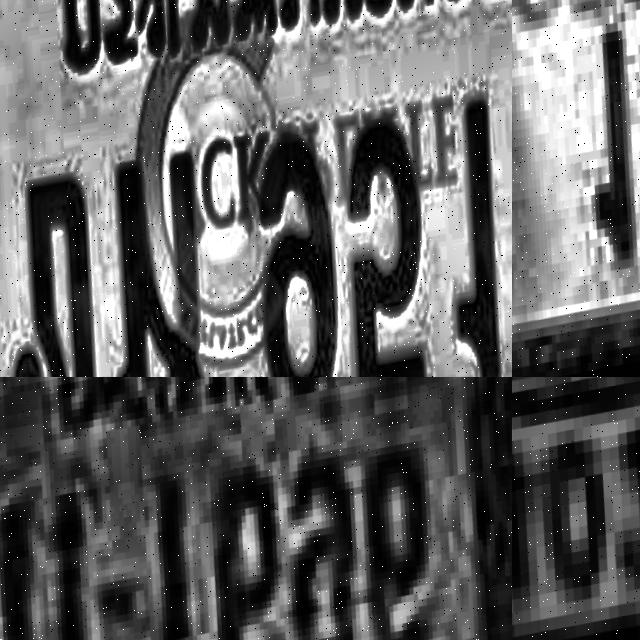license-plate: (0, 0, 512, 377), (0, 377, 512, 640), (512, 0, 640, 377), (512, 377, 640, 640)
